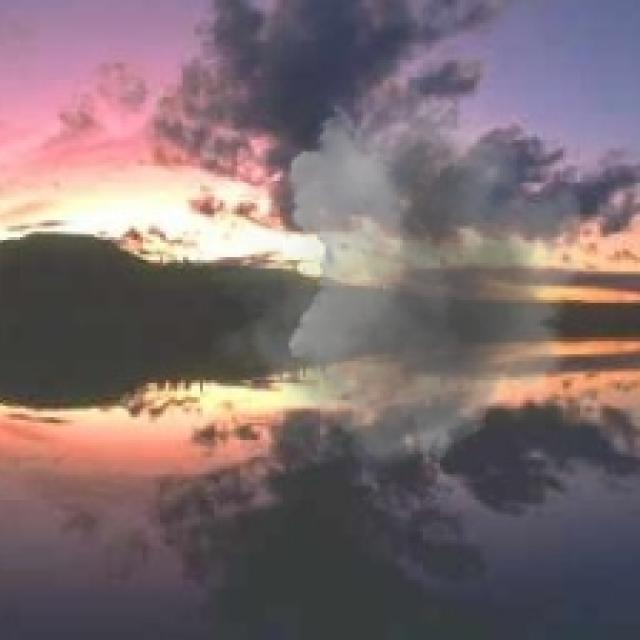Smoke: (208, 91, 603, 483)
